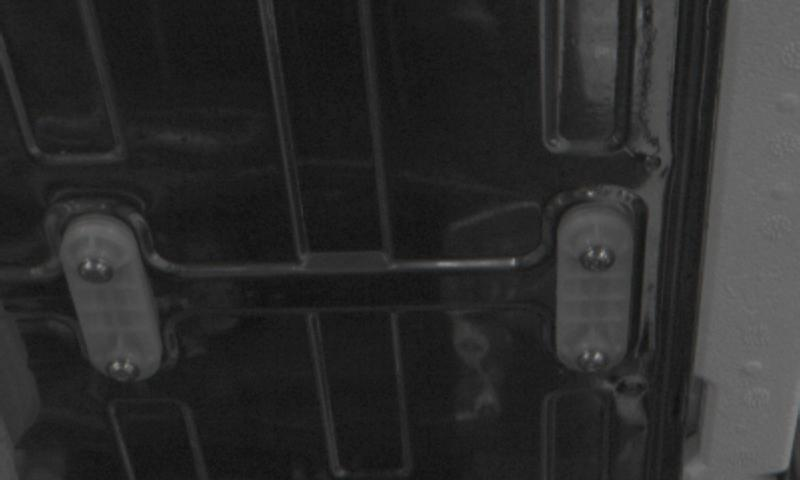vida-ok: (74, 250, 120, 294), (578, 239, 625, 282), (570, 341, 616, 380), (100, 349, 145, 388)
